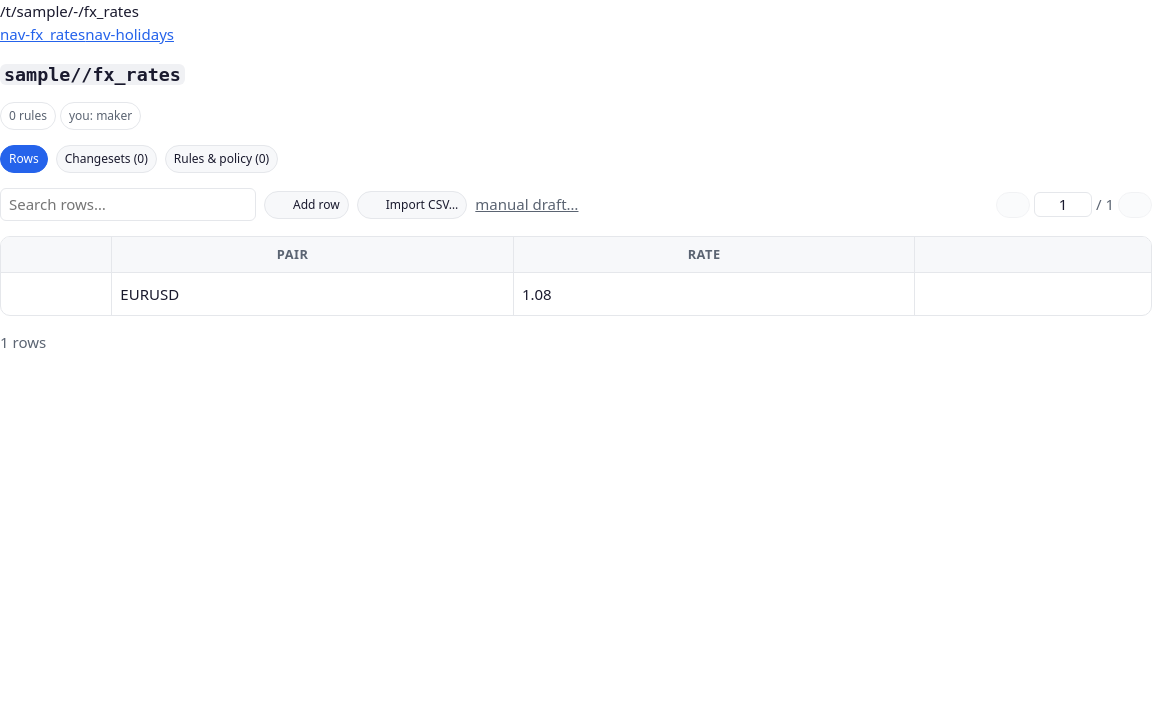
Test: TableBrowser draft basket scoping › prompts instead of carrying the draft to another table
Click the button "Add row" at coordinates (306, 205), box [264,191,349,219]
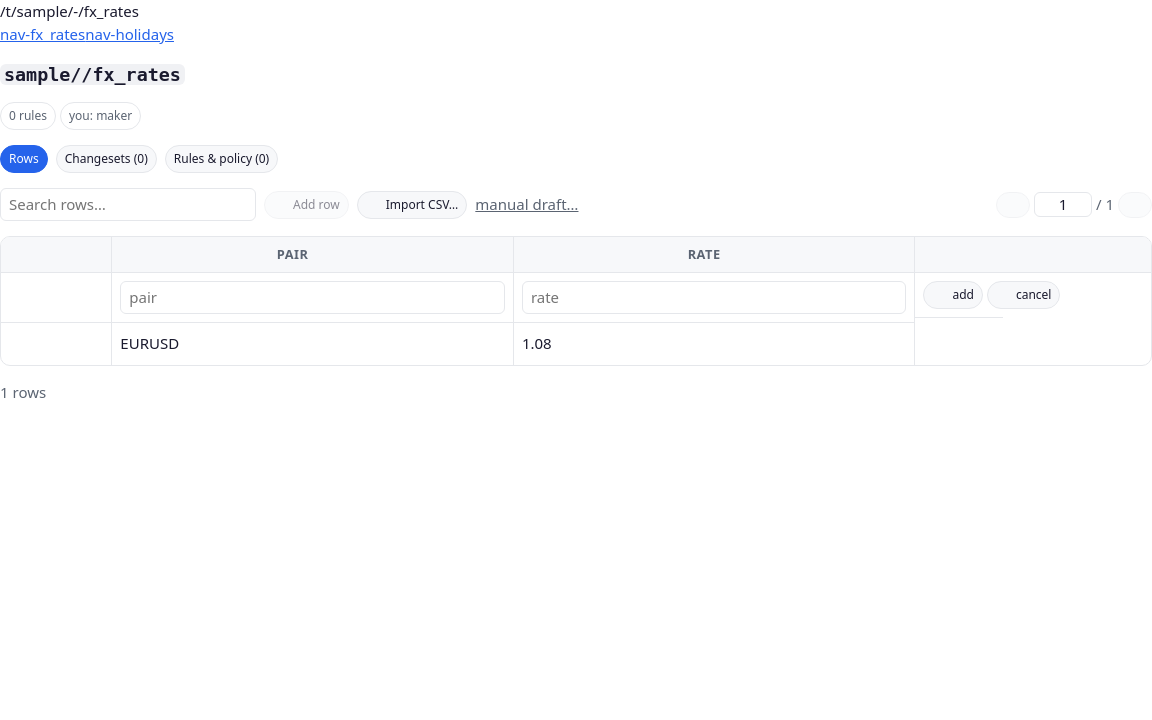
Type "XXXYYY" into the field labelled "pair" at coordinates (313, 297), box [120,281,505,314]
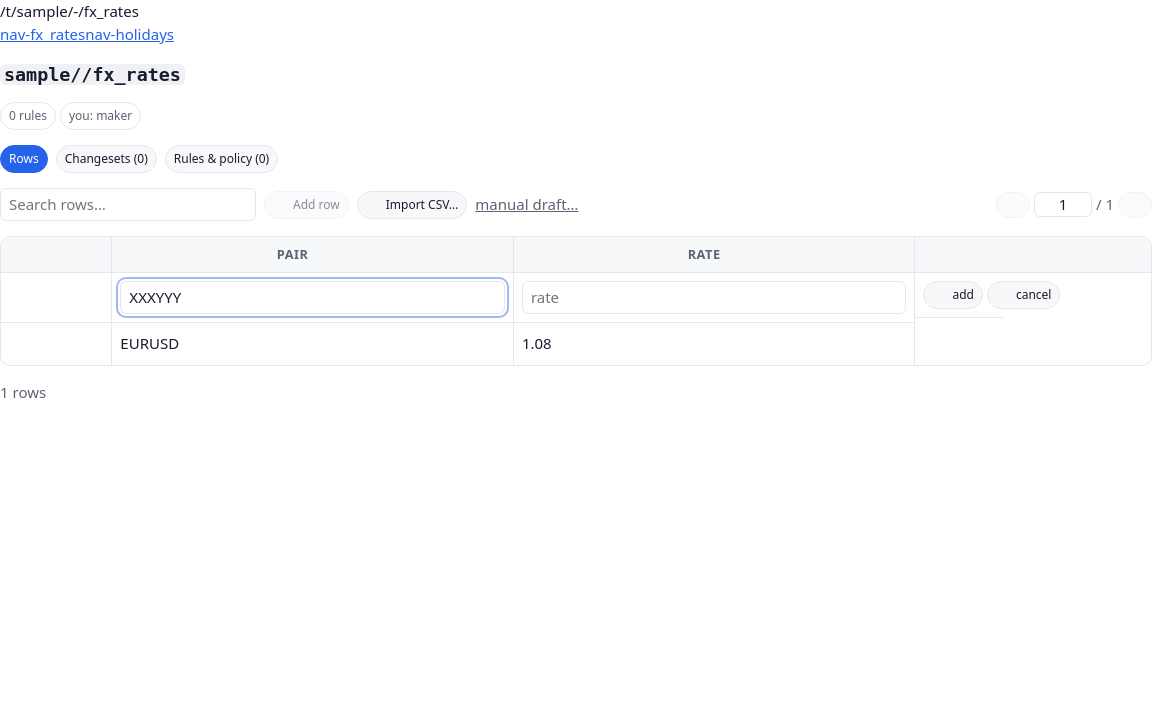
Type "1.5" into the field labelled "rate" at coordinates (714, 297), box [522,281,906,314]
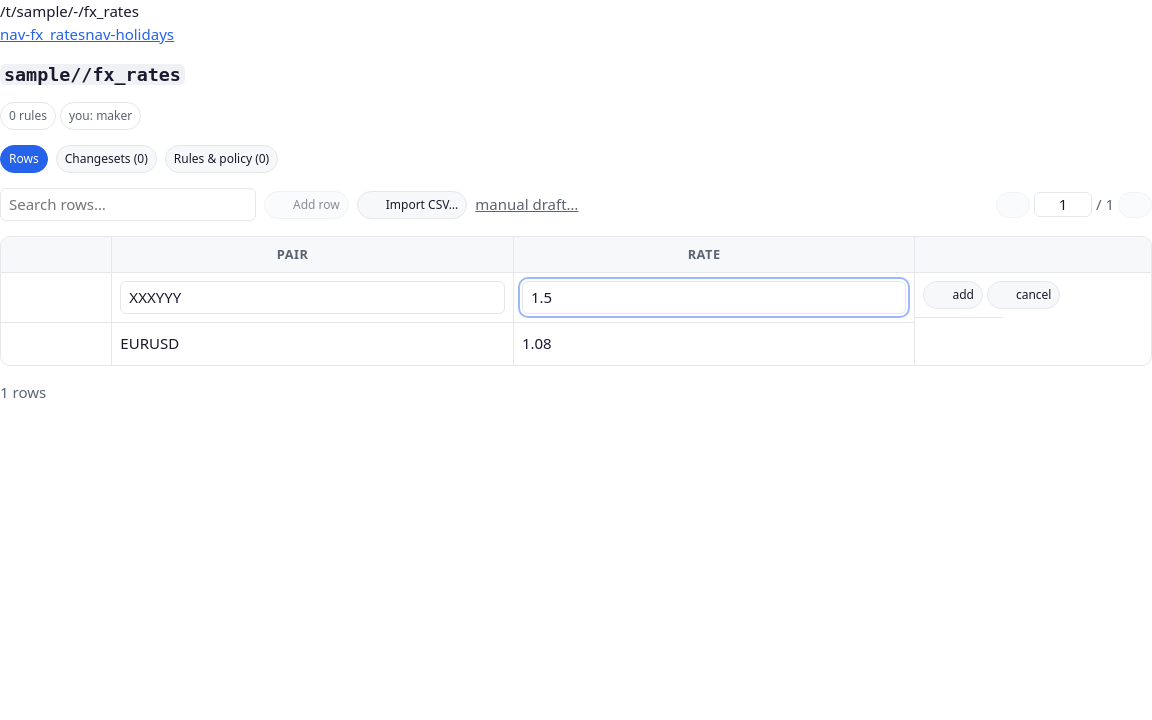
Click the button "add" at coordinates (953, 295), box [923,281,983,309]
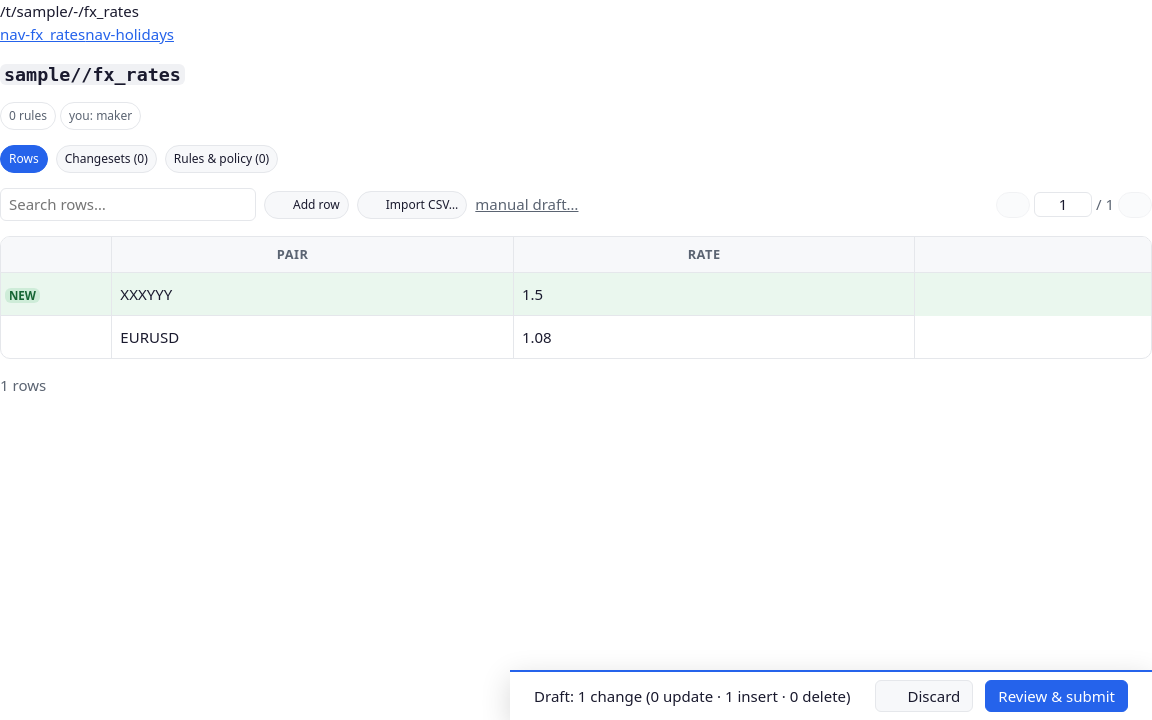
Click the link "nav-holidays" at coordinates (130, 34), box [85,24,174,44]
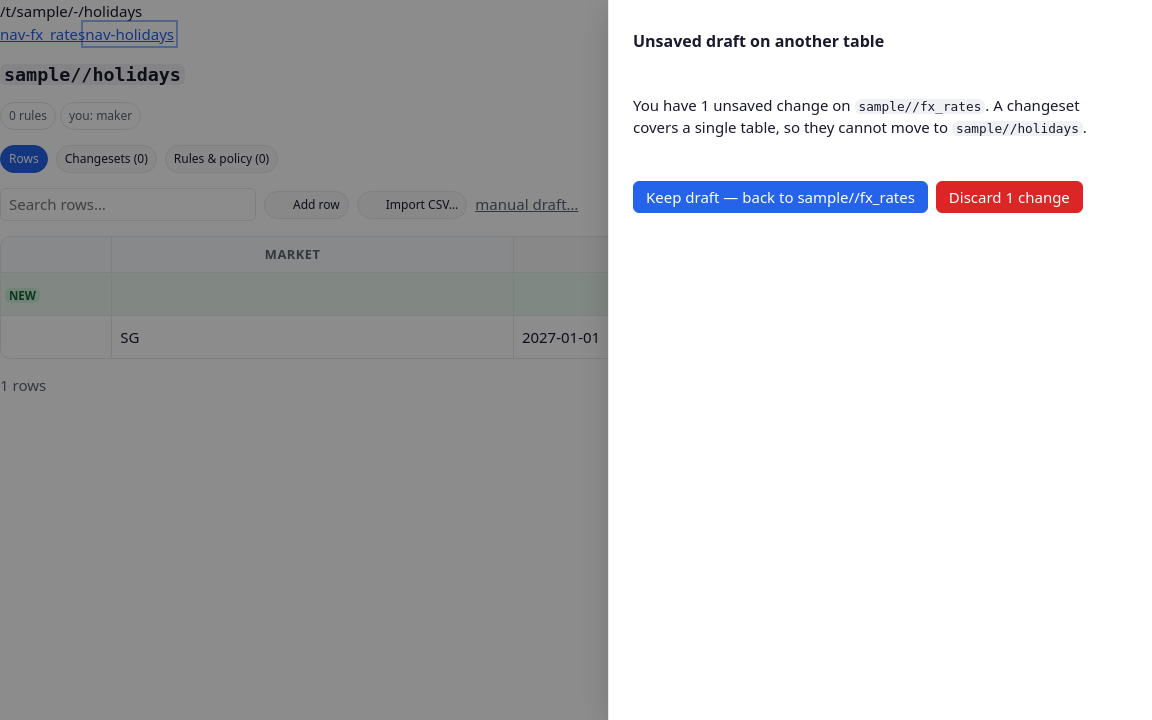
Expected: the heading "Unsaved draft on another table" is shown, [633,30,884,52]
Expected: the text "sample//fx_rates" is shown, [854,98,985,114]
Expected: the text "Draft: 1 change (0 update · 1 insert · 0 delete)" is gone
